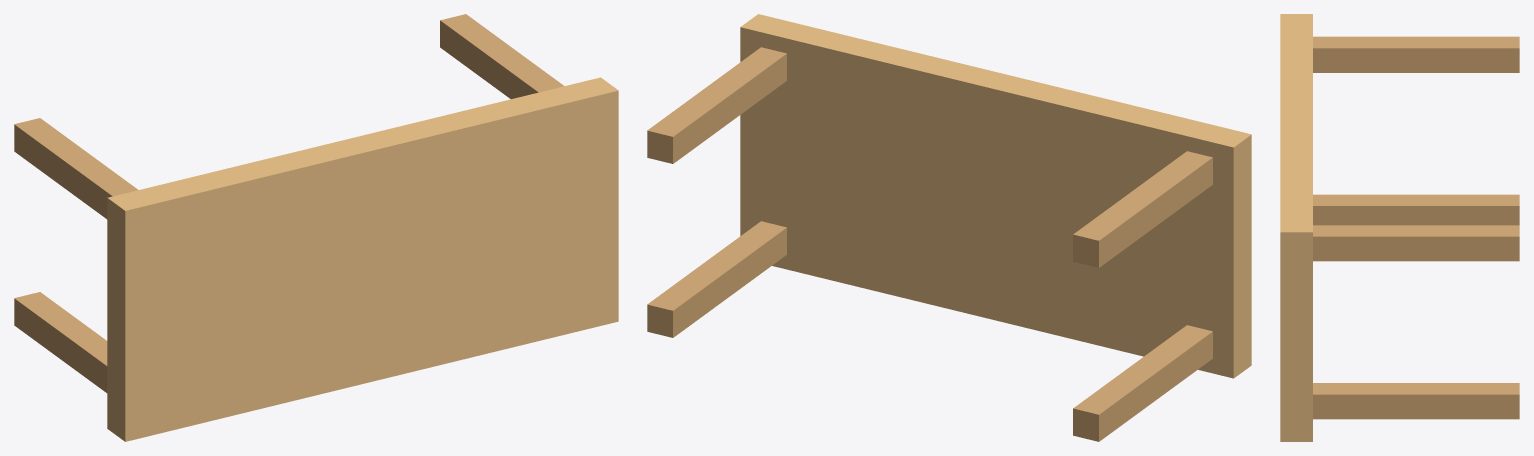
File: 12_table.glb
3 renders of one model, left to right at view 1: azimuth 30°, elevation 25°; view 2: azimuth 150°, elevation 25°; view 3: azimuth 270°, elevation 25°, orthographic. The views are drawn at different scales.
Visible parts, largest first — view 1: part_1, part_3, part_5, part_2; view 2: part_1, part_2, part_3, part_4, part_5; view 3: part_1, part_3, part_4, part_5, part_2.
Boxes of the visible parts, box(x1,y1,x2,y2) form: part_1: box(107, 77, 618, 441); part_3: box(14, 118, 138, 219); part_5: box(440, 14, 564, 99); part_2: box(14, 292, 107, 392); part_1: box(740, 14, 1251, 378); part_2: box(1073, 325, 1212, 441); part_3: box(1073, 151, 1212, 267); part_4: box(647, 221, 786, 337); part_5: box(647, 47, 786, 163); part_1: box(1280, 14, 1312, 441); part_3: box(1313, 36, 1519, 72); part_4: box(1313, 383, 1519, 419); part_5: box(1313, 225, 1519, 261); part_2: box(1313, 194, 1519, 225).
Bounding box in the file's own units: 1.9 × 0.85 × 0.88.
